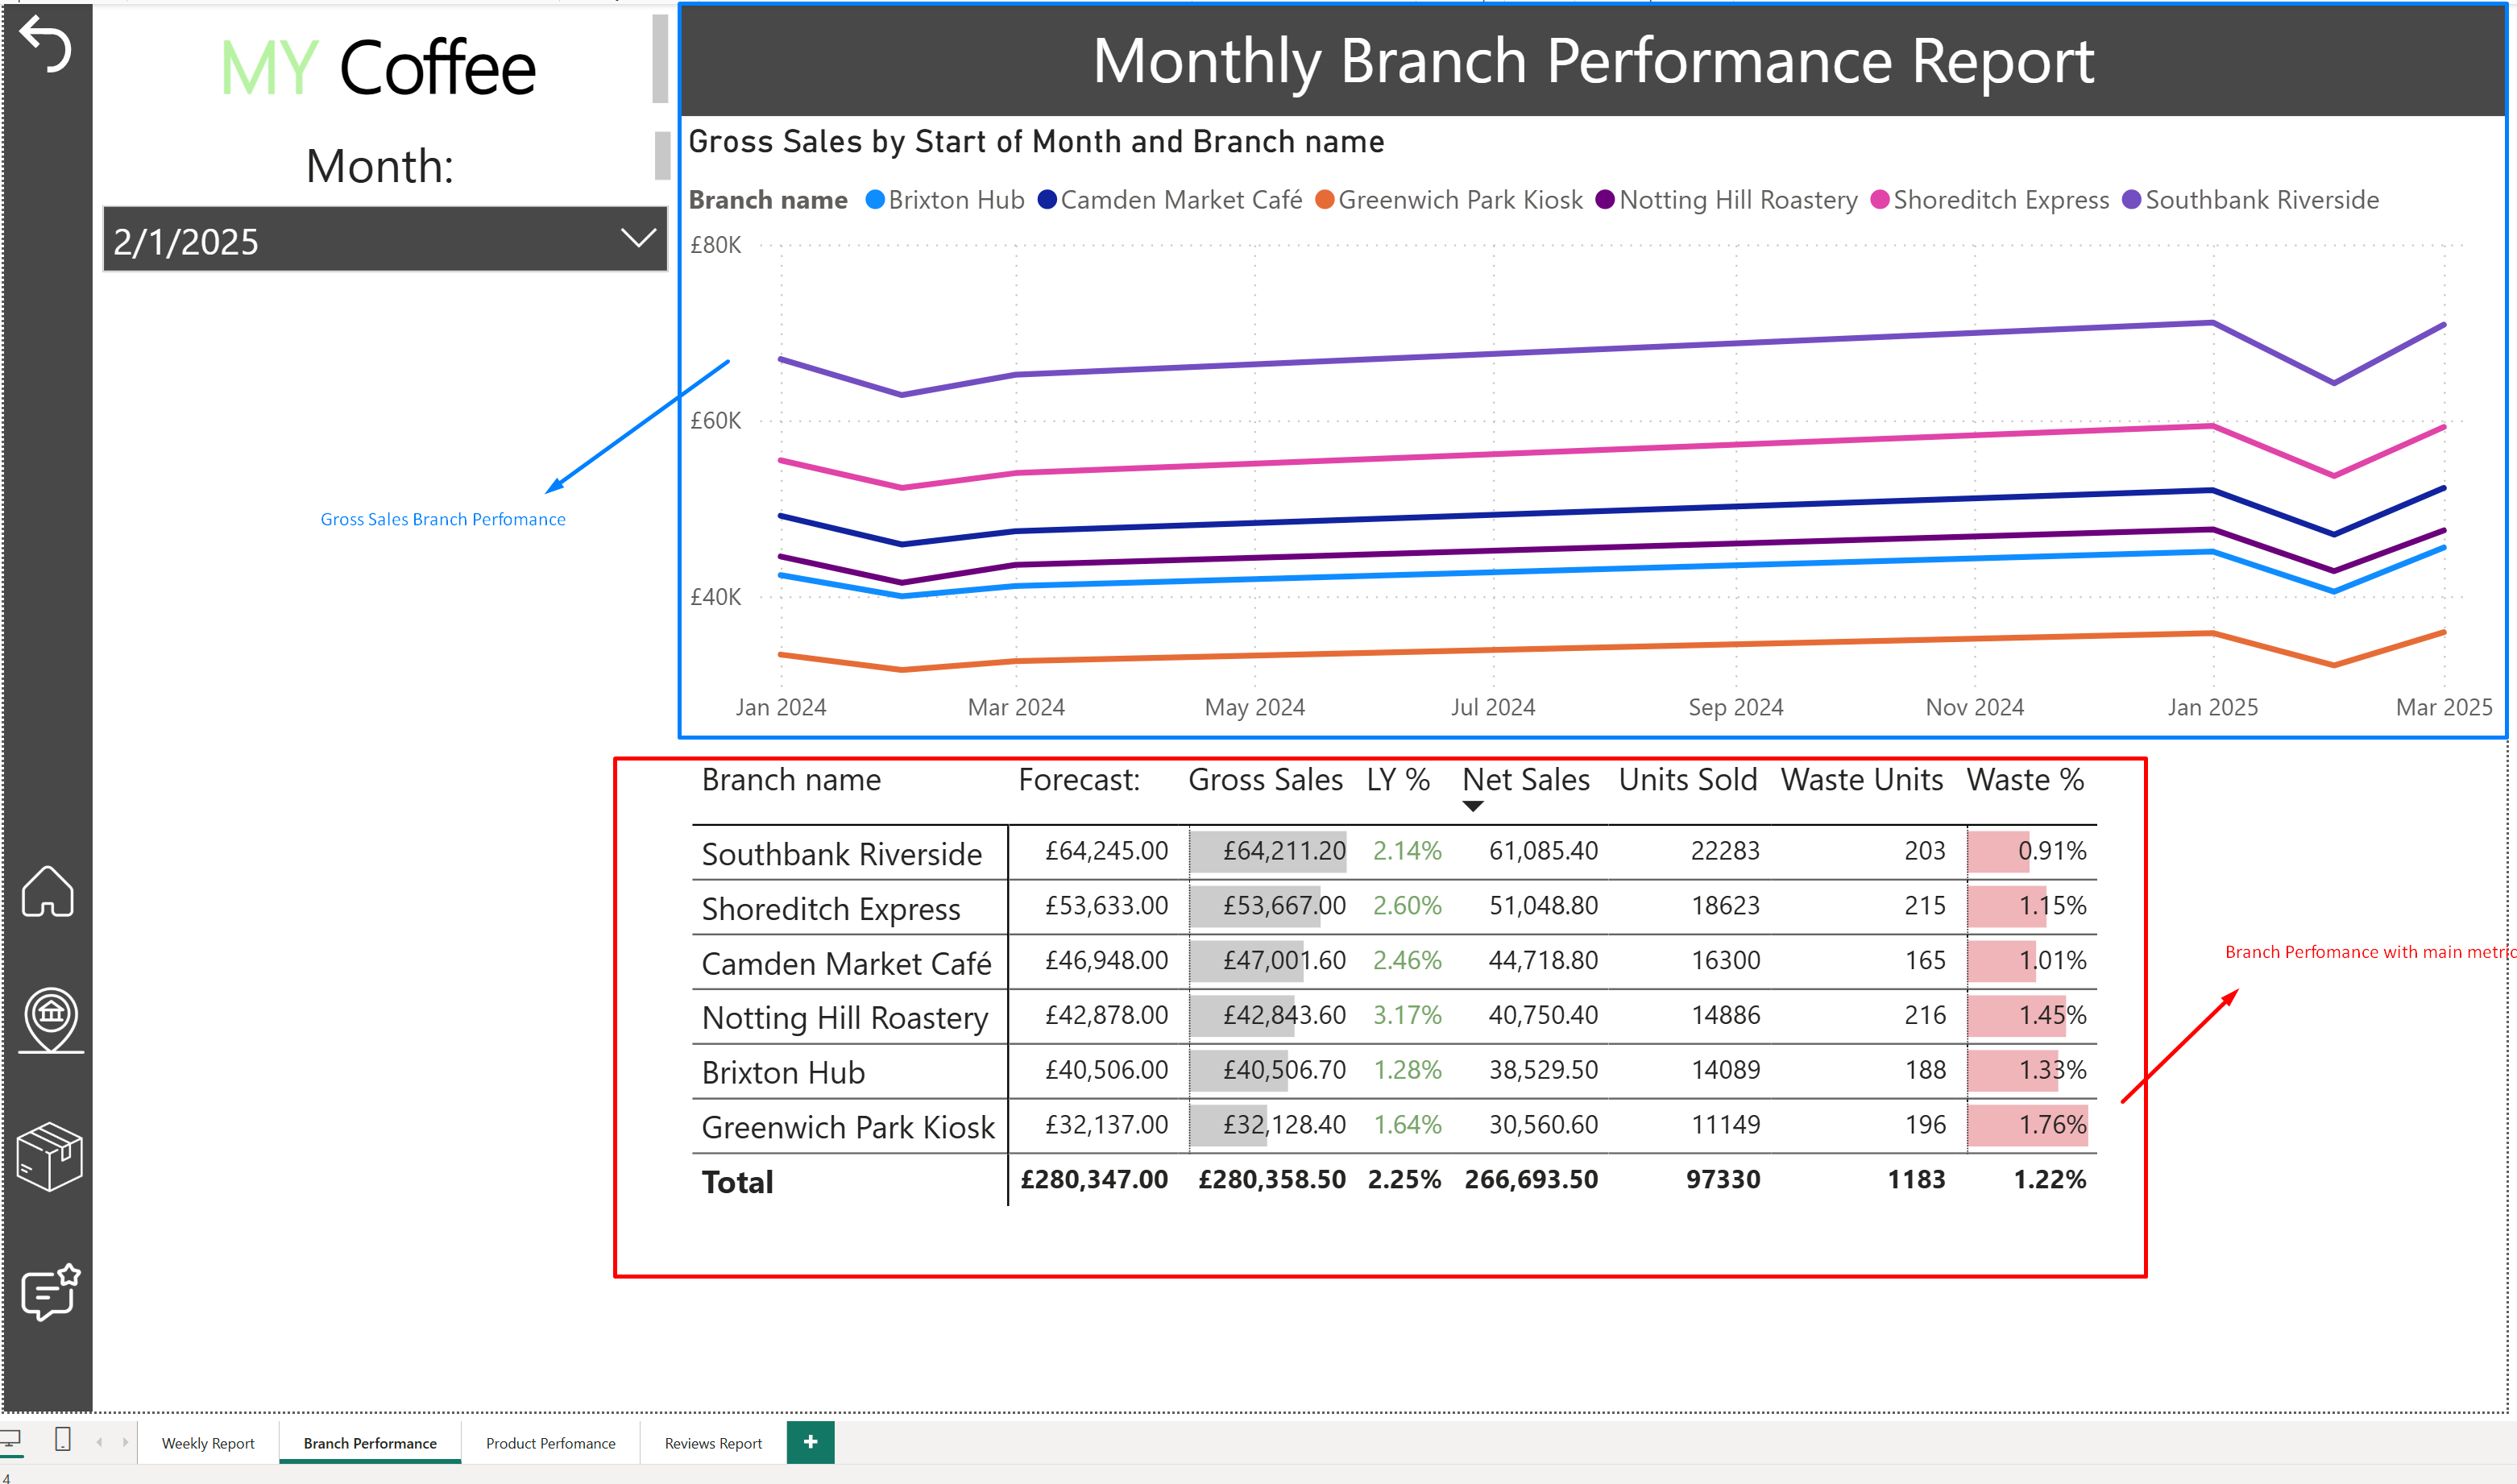

The page's visual inventory and layout, read from the dashboard file:
{"tool":"powerbi","page":{"name":"Branch Performance","canvas":[1280,720],"ordinal":1},"visuals":[{"type":"pivotTable","fields":{"Rows":["Branch_Lookup_Table.Branch name"],"Values":["Measure Table.Forecast:","Measure Table.Gross Sales","Measure Table.LY %","Measure Table.Net Sales","Measure Table.Units Sold","Measure Table.Waste Units","Measure Table.Waste %"]},"box":[346.7,377.3,933.8,342.3],"z":0},{"type":"shape","box":[0,0,45.6,720.6],"z":1000},{"type":"textbox","box":[346.3,0,933.7,57.3],"z":2000},{"type":"textbox","box":[46.6,59.7,299.7,38.2],"z":3000},{"type":"slicer","fields":{"Values":["Calendar_Lookup_table.Start of Month"]},"box":[45.4,97.9,299.7,49],"z":4000},{"type":"lineChart","fields":{"Y":["Measure Table.Gross Sales"],"Series":["Branch_Lookup_Table.Branch name"],"Category":["Calendar_Lookup_table.Start of Month"]},"box":[345.1,59.7,933.7,317.6],"z":5000},{"type":"textbox","box":[45.8,0,299.2,57.5],"z":6000},{"type":"image","box":[2.1,497.4,44.2,44.2],"z":7000},{"type":"image","box":[2.1,637.3,44.2,43.1],"z":8000},{"type":"image","box":[0,432.2,44.2,43.1],"z":9000},{"type":"image","box":[0,563.7,46.3,51.5],"z":10000},{"type":"actionButton","box":[1.1,0,45.2,40],"z":11000}]}

Visuals, with their boxes on the page's 1280x720 design canvas (x1, y1, x2, y2). These are canvas units, not pixel positions in the 2517x1484 screenshot, which may show the page scaled, cropped or inside an application window:
pivotTable - Branch_Lookup_Table.Branch name x Measure Table.Forecast:: <bbox>347, 377, 1280, 720</bbox>
shape: <bbox>0, 0, 46, 721</bbox>
textbox: <bbox>346, 0, 1280, 57</bbox>
textbox: <bbox>47, 60, 346, 98</bbox>
slicer - Calendar_Lookup_table.Start of Month: <bbox>45, 98, 345, 147</bbox>
lineChart - Measure Table.Gross Sales x Branch_Lookup_Table.Branch name: <bbox>345, 60, 1279, 377</bbox>
textbox: <bbox>46, 0, 345, 58</bbox>
image: <bbox>2, 497, 46, 542</bbox>
image: <bbox>2, 637, 46, 680</bbox>
image: <bbox>0, 432, 44, 475</bbox>
image: <bbox>0, 564, 46, 615</bbox>
actionButton: <bbox>1, 0, 46, 40</bbox>
